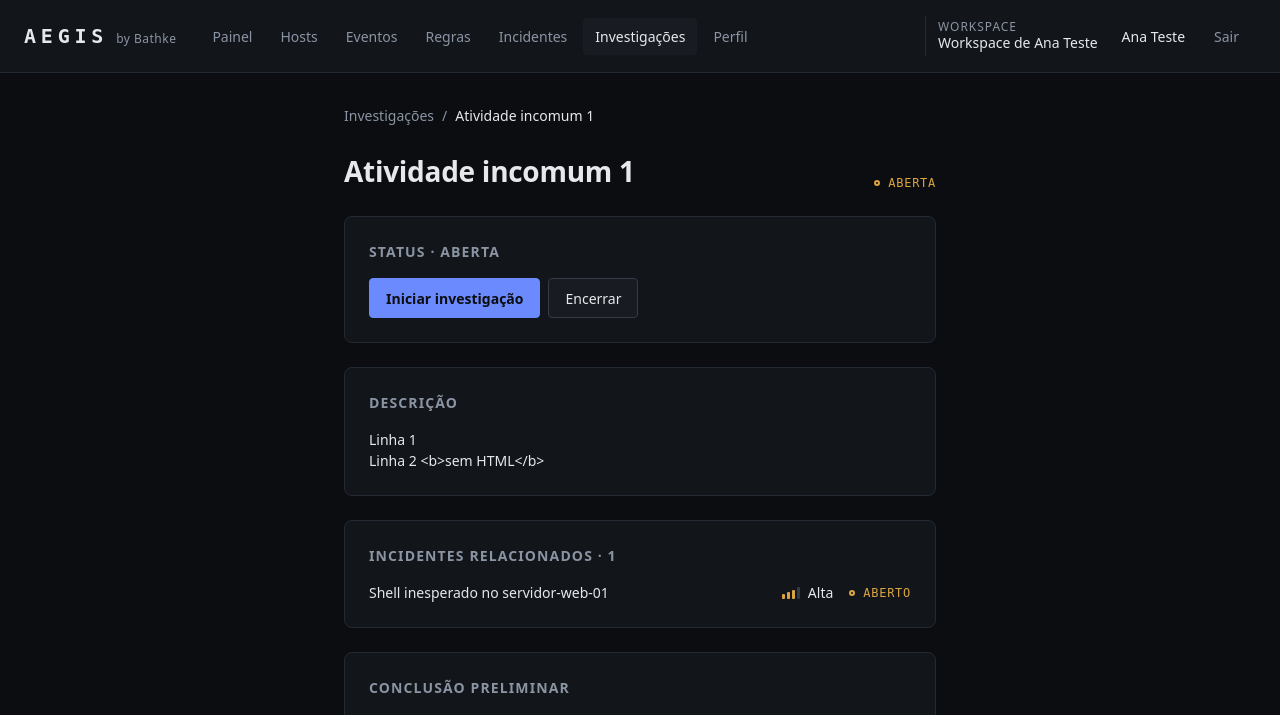
investigation detail, lifecycle and conclusion › offers only the transitions reported by the API and sends them through PUT
This screenshot has width=1280, height=715.
Click the button "Iniciar investigação": (455,298) 369,278 -> 540,318
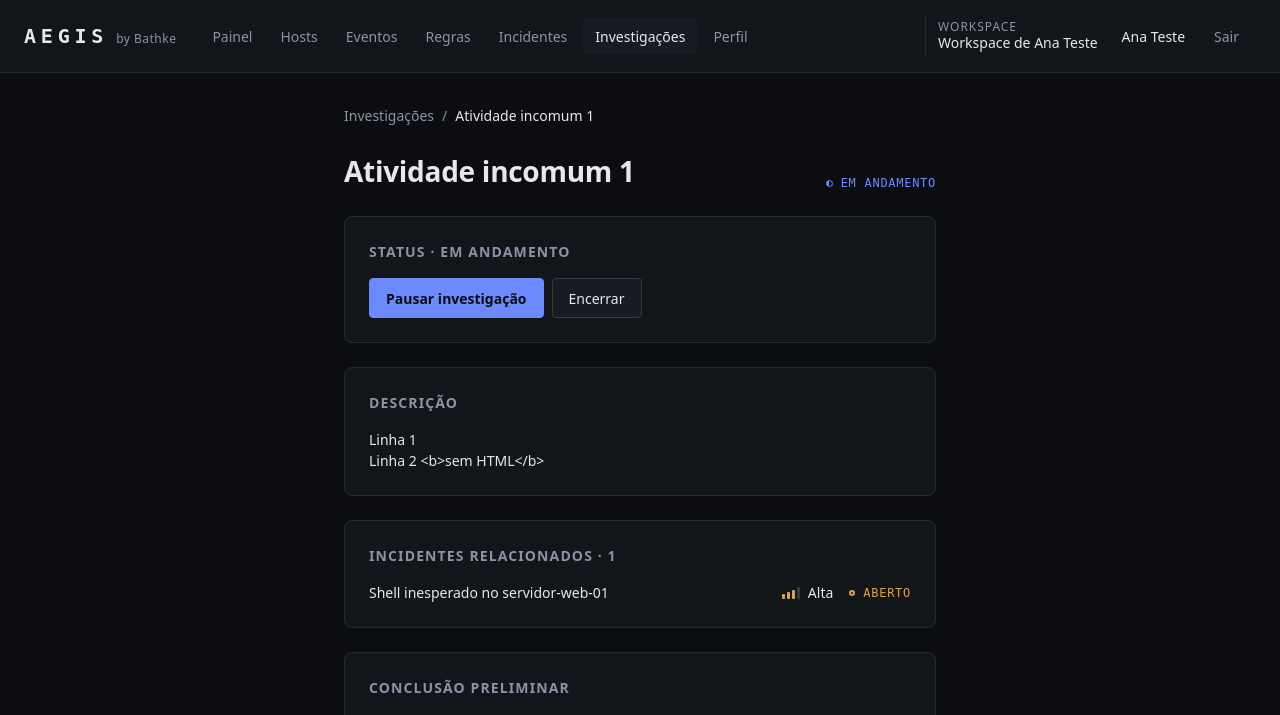
expect the buttons read "Pausar investigação", "Encerrar", in this order: met, box 369,278 -> 544,318; 552,278 -> 642,318
